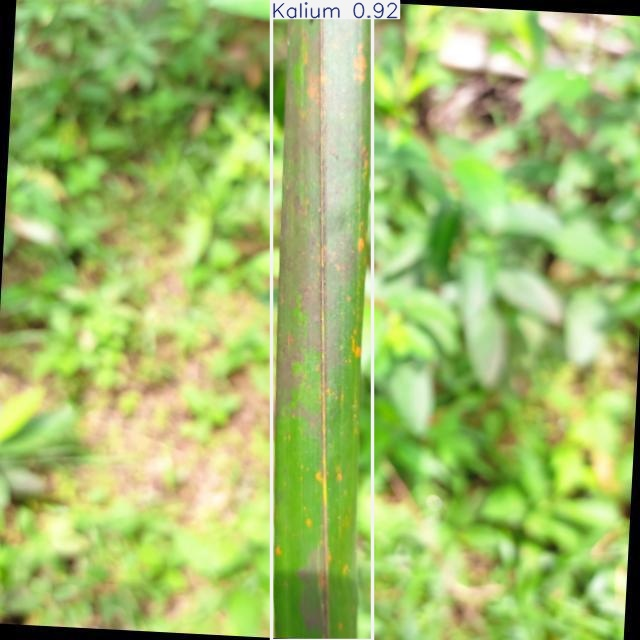Kalium: (271, 0, 372, 640)
